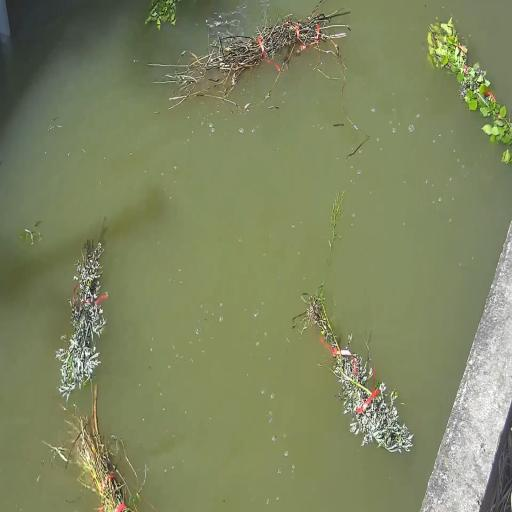twig: (162, 10, 348, 108), (303, 293, 413, 452), (48, 384, 139, 512), (427, 18, 512, 145), (56, 219, 108, 400), (145, 0, 181, 29)
